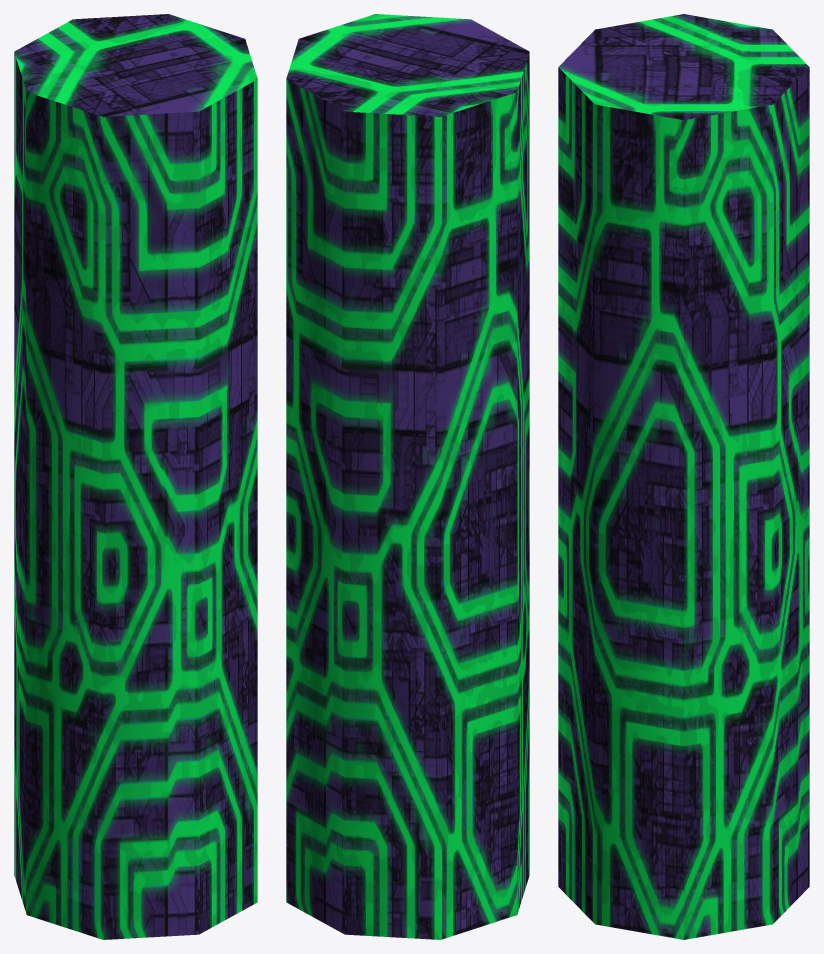
File: Alt_City_Pillar.dae
The picture shows the model from 3 angles, left to right: view 1: azimuth 30°, elevation 25°; view 2: azimuth 150°, elevation 25°; view 3: azimuth 270°, elevation 25°; orthographic projection.
Parts seen in each view (by area): view 1: pCylinder1; view 2: pCylinder1; view 3: pCylinder1.
Boxes of the visible parts, left/top/right/bottom form: pCylinder1: left=14, top=14, right=257, bottom=939; pCylinder1: left=286, top=14, right=529, bottom=939; pCylinder1: left=558, top=14, right=809, bottom=939.
Size of the model in its own units: 20 by 72 by 20.
